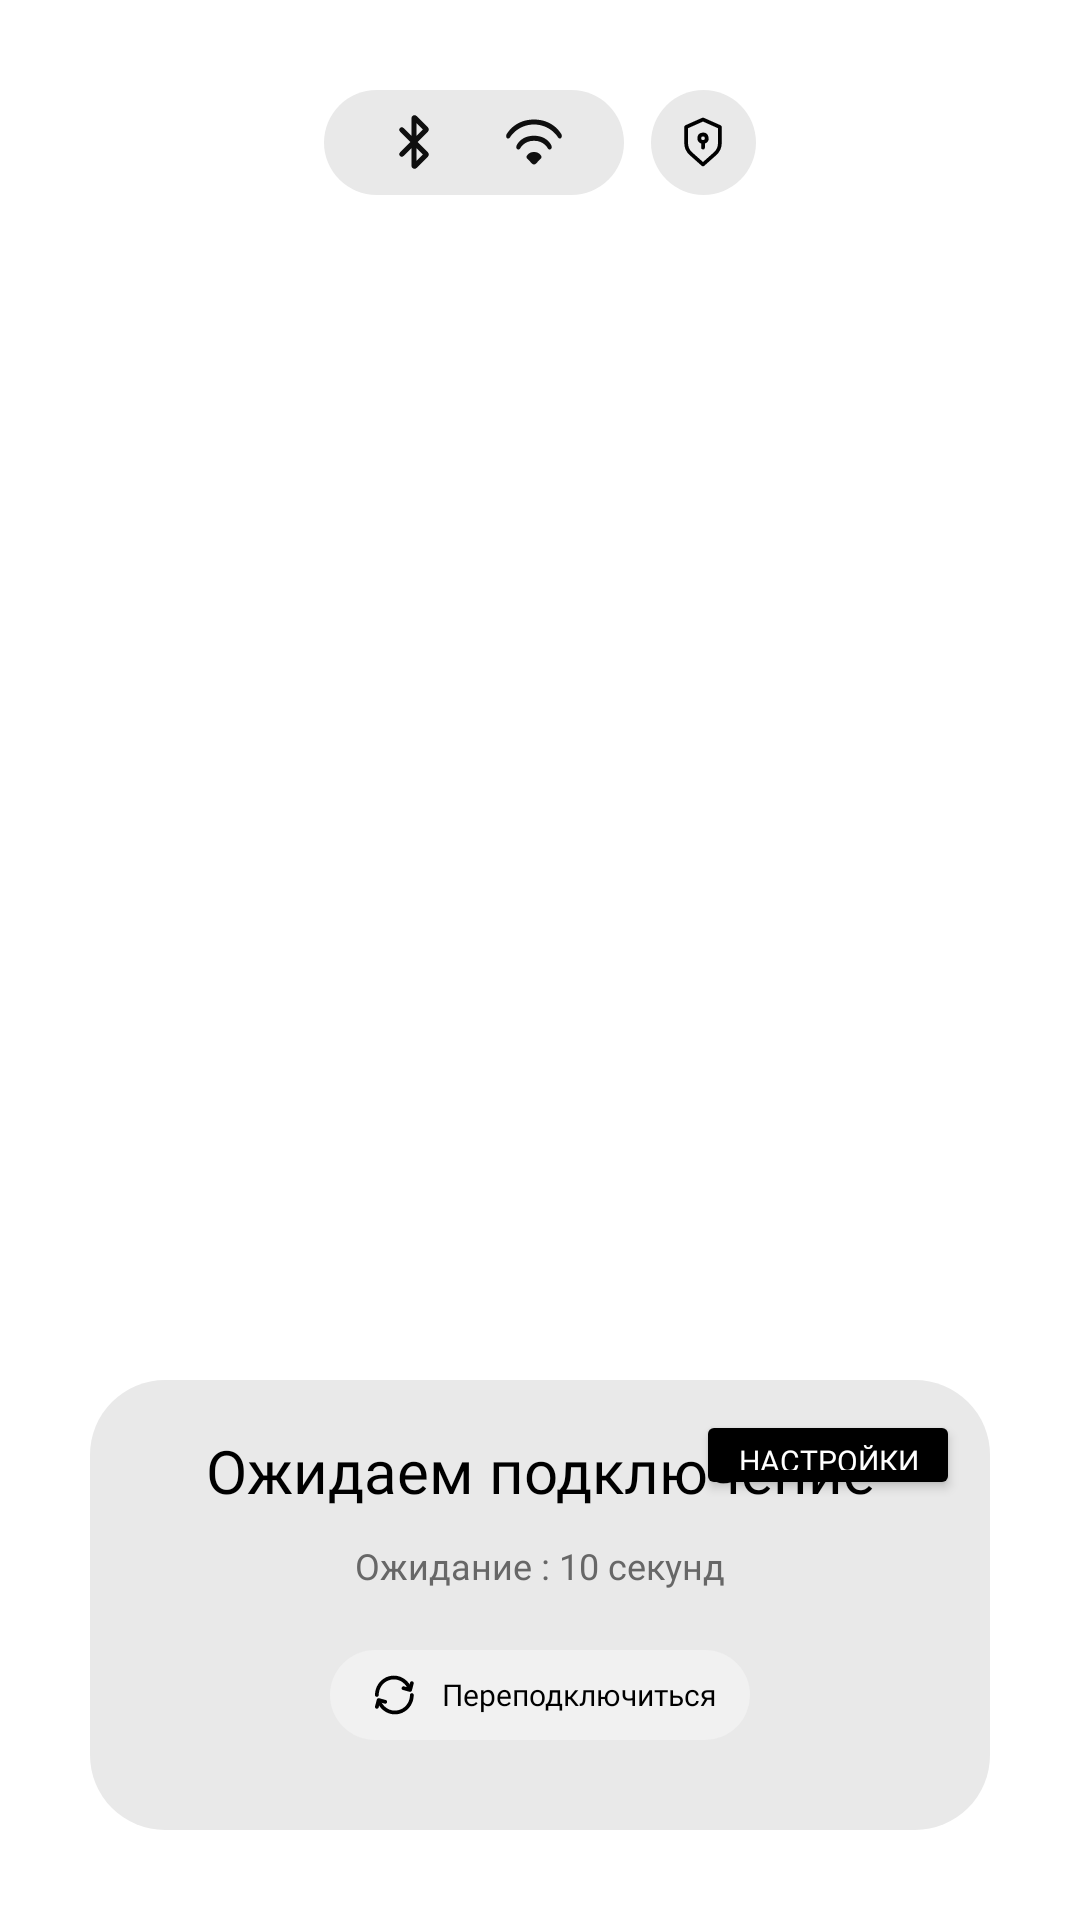

Screen size 1080x1920. Icon name, then its box in pixels as (x1, y1, x2, y2):
reload: (375, 1675, 414, 1715)
security: (684, 117, 722, 167)
wifi: (506, 119, 562, 165)
